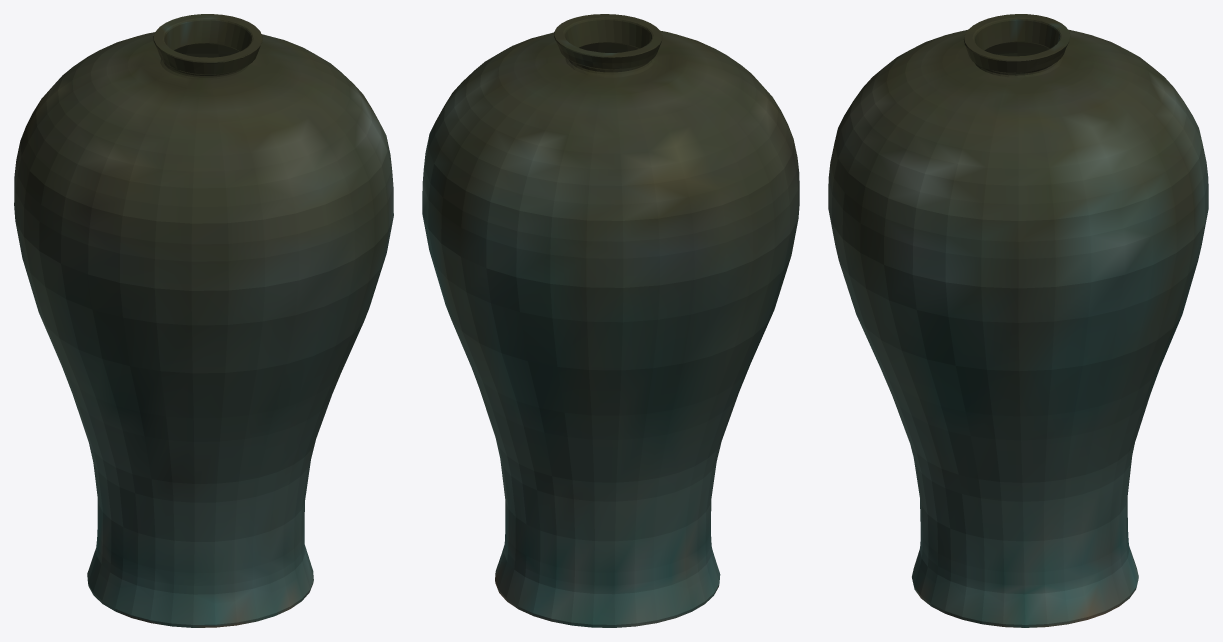
The model's file is celadon_porcelainb_4ace759a.glb.
The picture shows the model from 3 angles, left to right: view 1: azimuth 30°, elevation 25°; view 2: azimuth 150°, elevation 25°; view 3: azimuth 270°, elevation 25°; orthographic projection.
Parts seen in each view (by area): view 1: SM_Celadon_PorcelainB_M_Celadon_PorcelainB_0; view 2: SM_Celadon_PorcelainB_M_Celadon_PorcelainB_0; view 3: SM_Celadon_PorcelainB_M_Celadon_PorcelainB_0.
Part boxes in pixels (x1,y1,x2,y2): SM_Celadon_PorcelainB_M_Celadon_PorcelainB_0: [14, 14, 393, 627]; SM_Celadon_PorcelainB_M_Celadon_PorcelainB_0: [422, 14, 799, 627]; SM_Celadon_PorcelainB_M_Celadon_PorcelainB_0: [828, 14, 1208, 627].
Bounding box in the file's own units: 0.2431 × 0.3859 × 0.2431.
